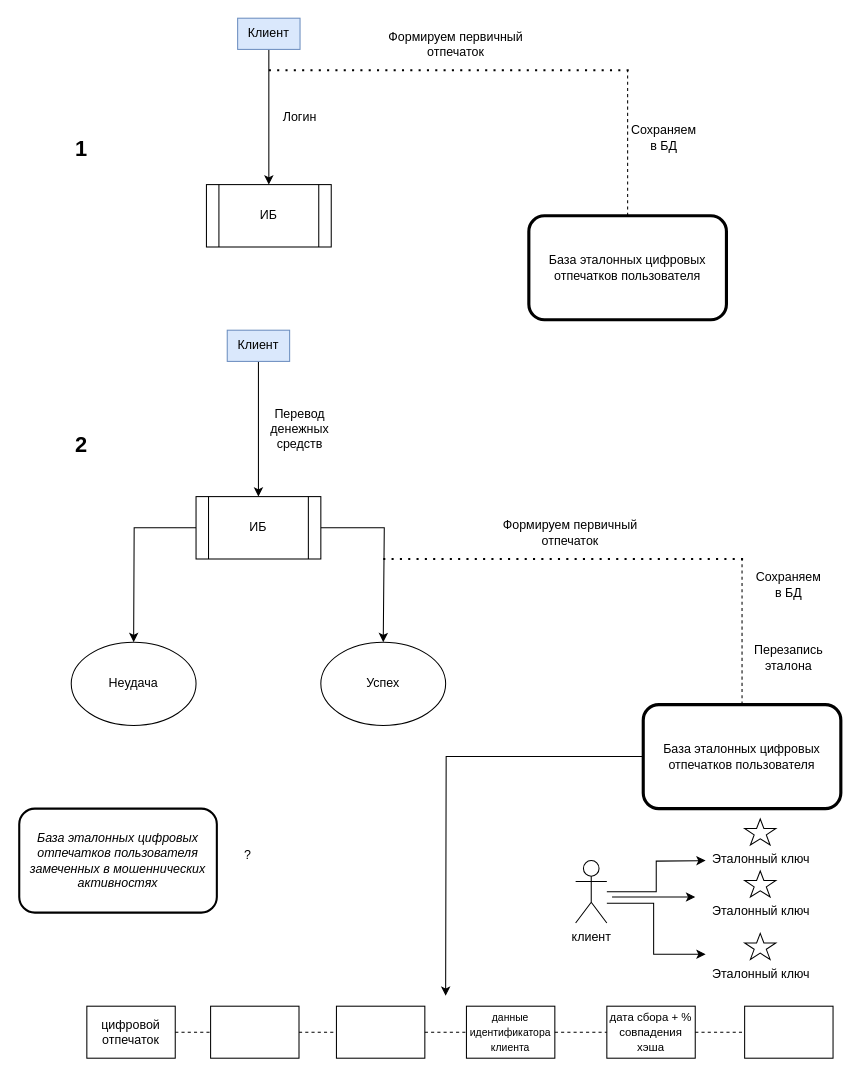
The diagram is 860 pixels wide and 1076 high, and some of its shapes have lost their labels. Each missing label, with the centre of its shape:
"данные по операциям" goes at pixel 254 1031.
"история с признаками актуальности" goes at pixel 788 1031.
"исходные значения параметров устройства" goes at pixel 380 1031.
